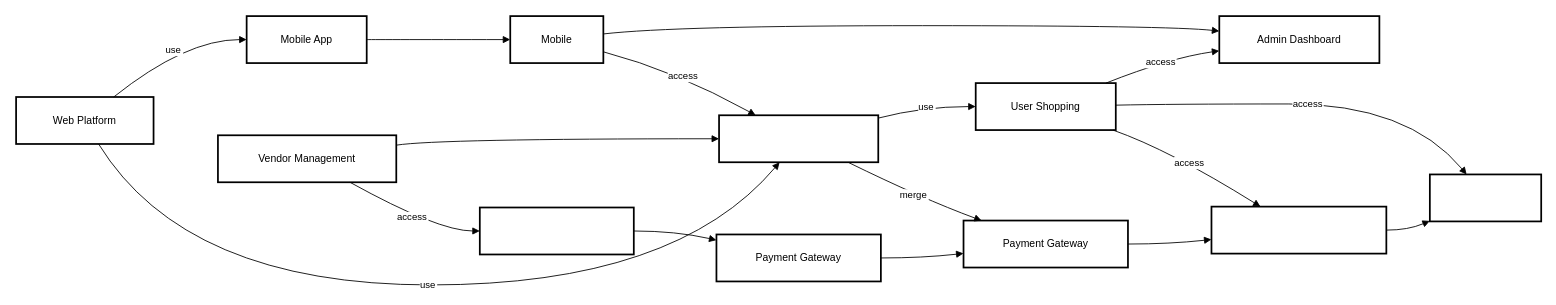
The diagram is 1556 pixels wide and 305 high, and some of its shapes have lost their labels. Here are the shapes that lost their labels. From the top down, the centre of each, then its label:
At point (798, 138): "Booking & Events".
At point (1485, 197): "Inventory".
At point (556, 230): "Review & Rating".
At point (1298, 229): "Notification Service".
